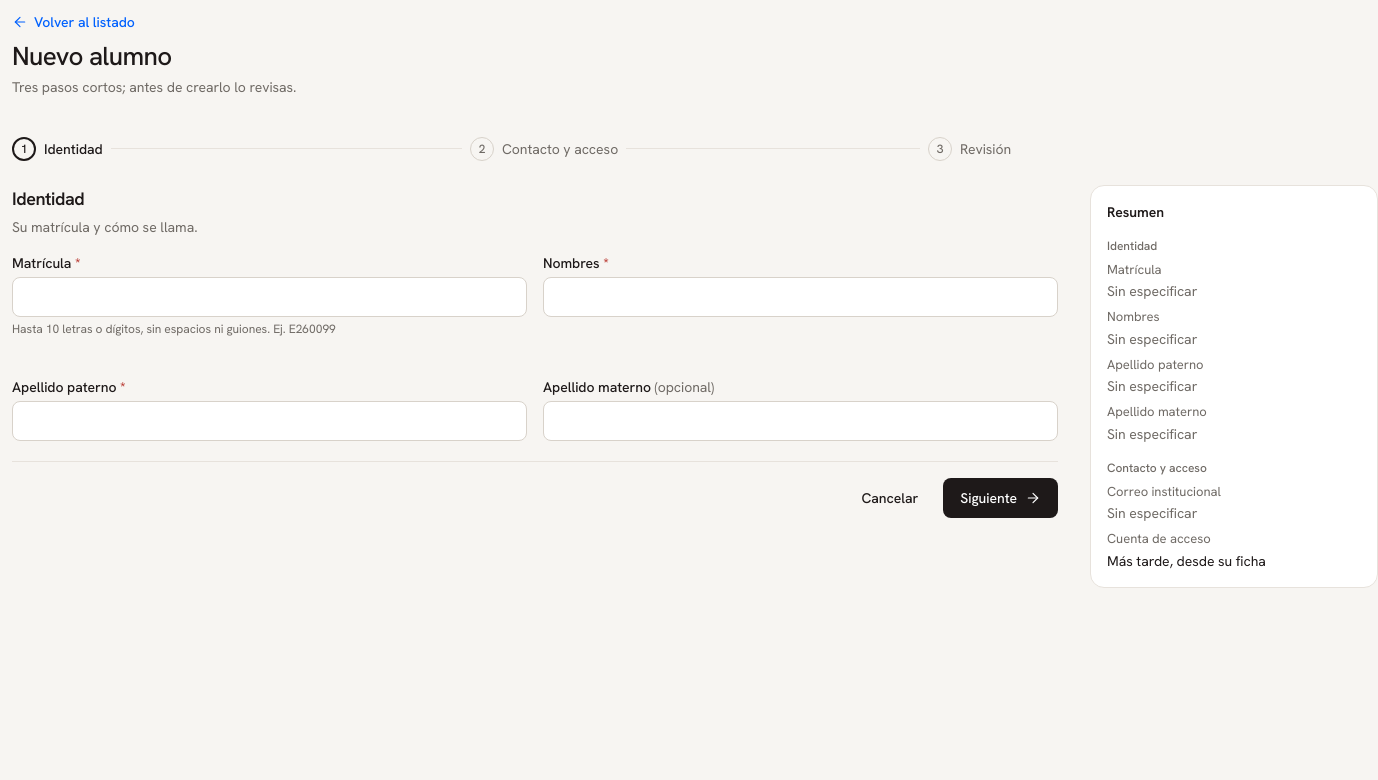
Test: NuevoAlumno: pasos y validación › arranca en Identidad, sin selector de estatus, y no avanza con datos faltantes
Expected: the heading "Identidad" is shown, left=12, top=186, right=84, bottom=210
Click the button "Siguiente" at [1001, 498], box left=943, top=478, right=1058, bottom=518
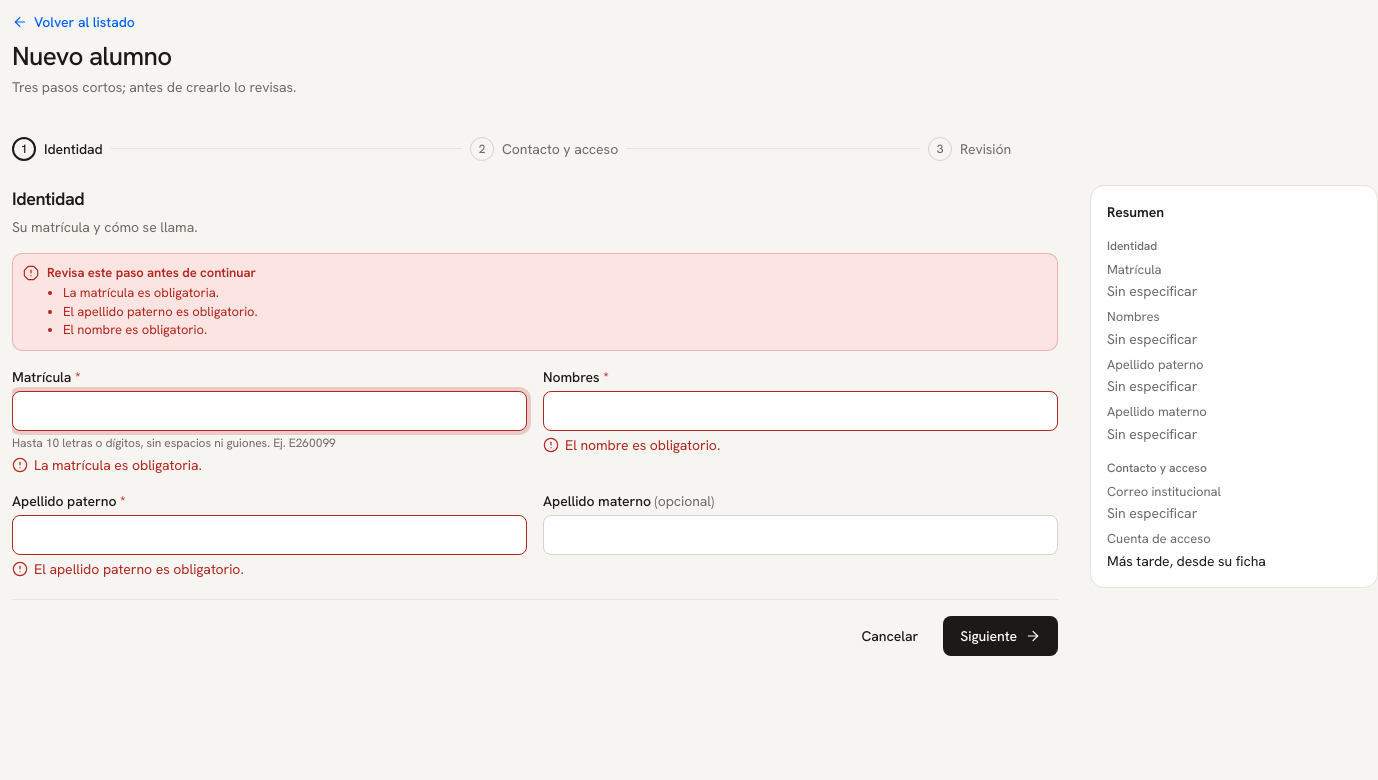
Expected: the heading "Identidad" is shown, left=12, top=186, right=84, bottom=210
Expected: the text "Revisa este paso antes de continuar" is shown, left=47, top=264, right=256, bottom=280
Expected: the list item "La matrícula es obligatoria." is shown, left=63, top=284, right=219, bottom=301
